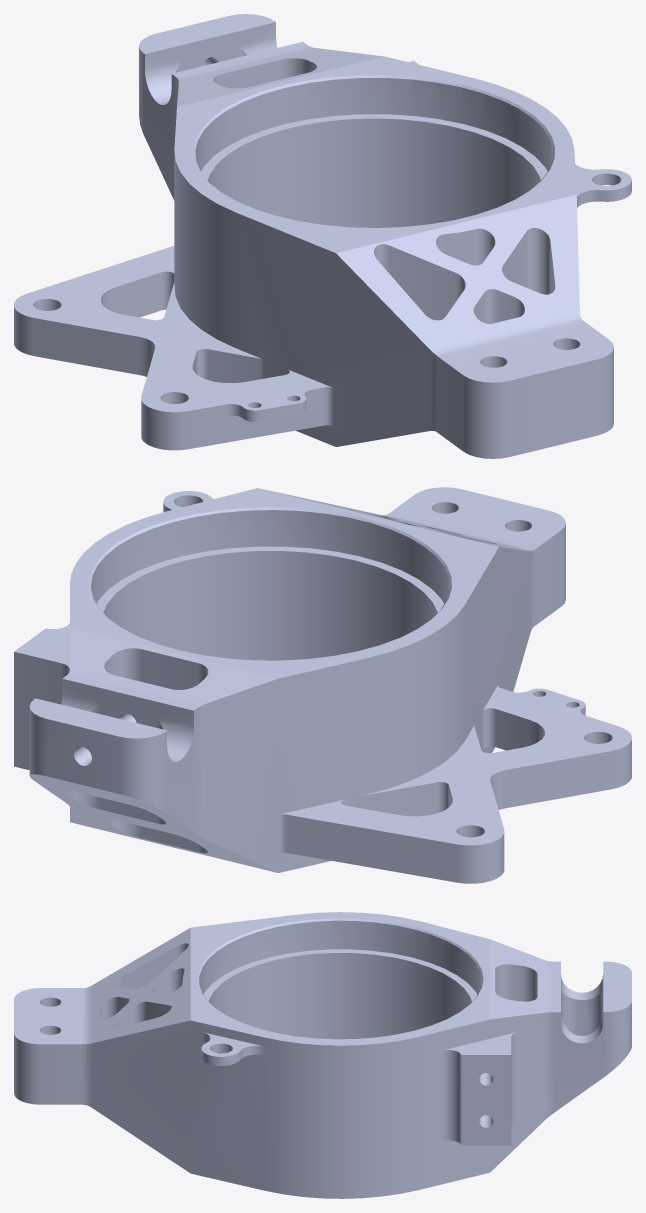
File: Front_Right_Corner_Wheel_Assembly__UA_26_Front_Right_Upright_1.dae
The picture shows the model from 3 angles, top to bottom: view 1: azimuth 30°, elevation 25°; view 2: azimuth 150°, elevation 25°; view 3: azimuth 270°, elevation 25°; orthographic projection. The views are drawn at different scales.
Visible parts, largest first — view 1: node0; view 2: node0; view 3: node0.
Part boxes in pixels (box(x1,y1,x2,y2)): node0: box(14, 14, 631, 458); node0: box(14, 487, 631, 883); node0: box(14, 912, 631, 1198).
Size of the model in its own units: 0.1292 by 0.0508 by 0.1857.
